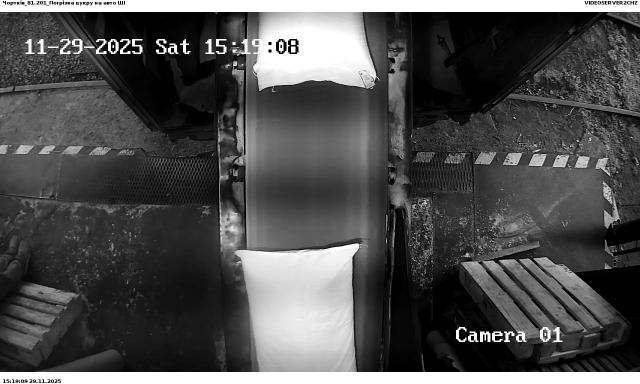bag: (235, 244, 360, 372), (253, 12, 377, 100)
